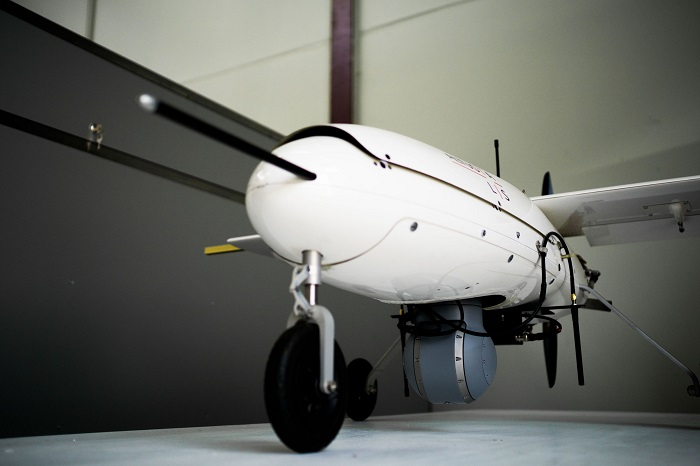drone: (132, 88, 700, 460)
